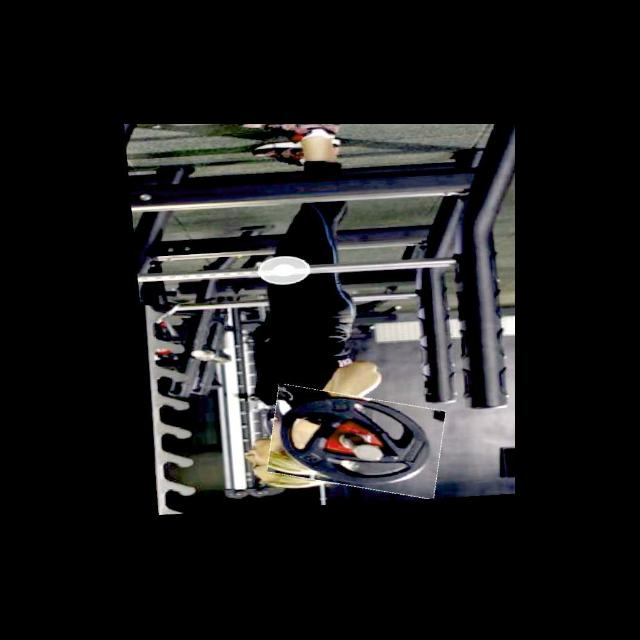barbell: (259, 387, 441, 502)
